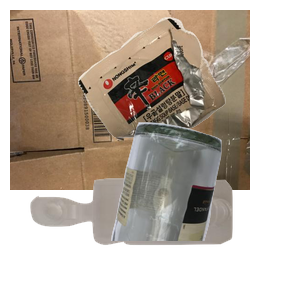cardboard: (10, 10, 250, 190)
glass: (109, 120, 300, 300)
plastic: (28, 176, 253, 300)
trash: (76, 15, 300, 145)
